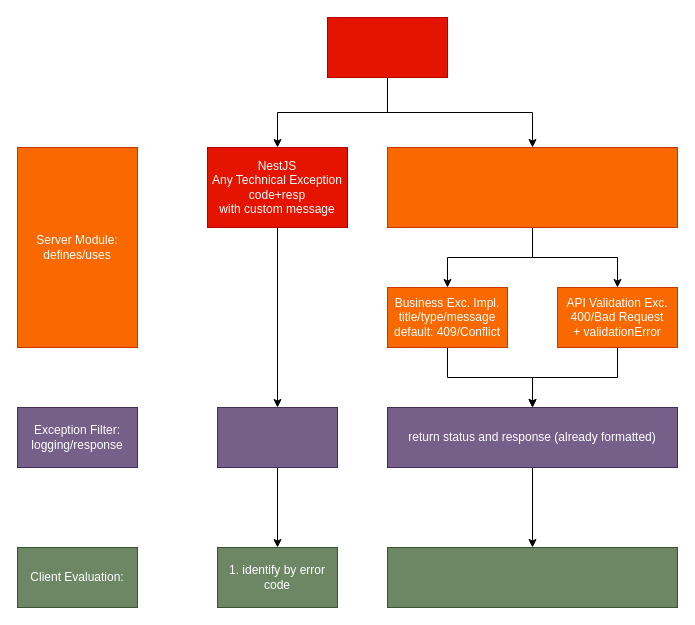
Some shapes in this 695 by 625 pixel diagram are drawn without their labels. Here are the shapes that lost their labels. From the top down, the box of each, then its label:
(326, 16, 448, 78): NestJS HttpException
(386, 146, 678, 228): Business Exception set format
(216, 406, 338, 468): apply response format: title/type/message
(386, 546, 678, 608): 2. identify by type, use custom additional data
